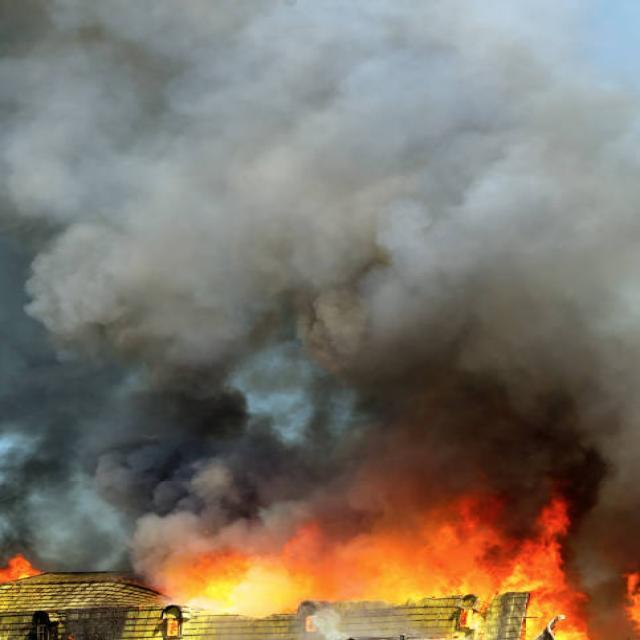Fire: (41, 444, 639, 640)
Smoke: (22, 0, 640, 520)
